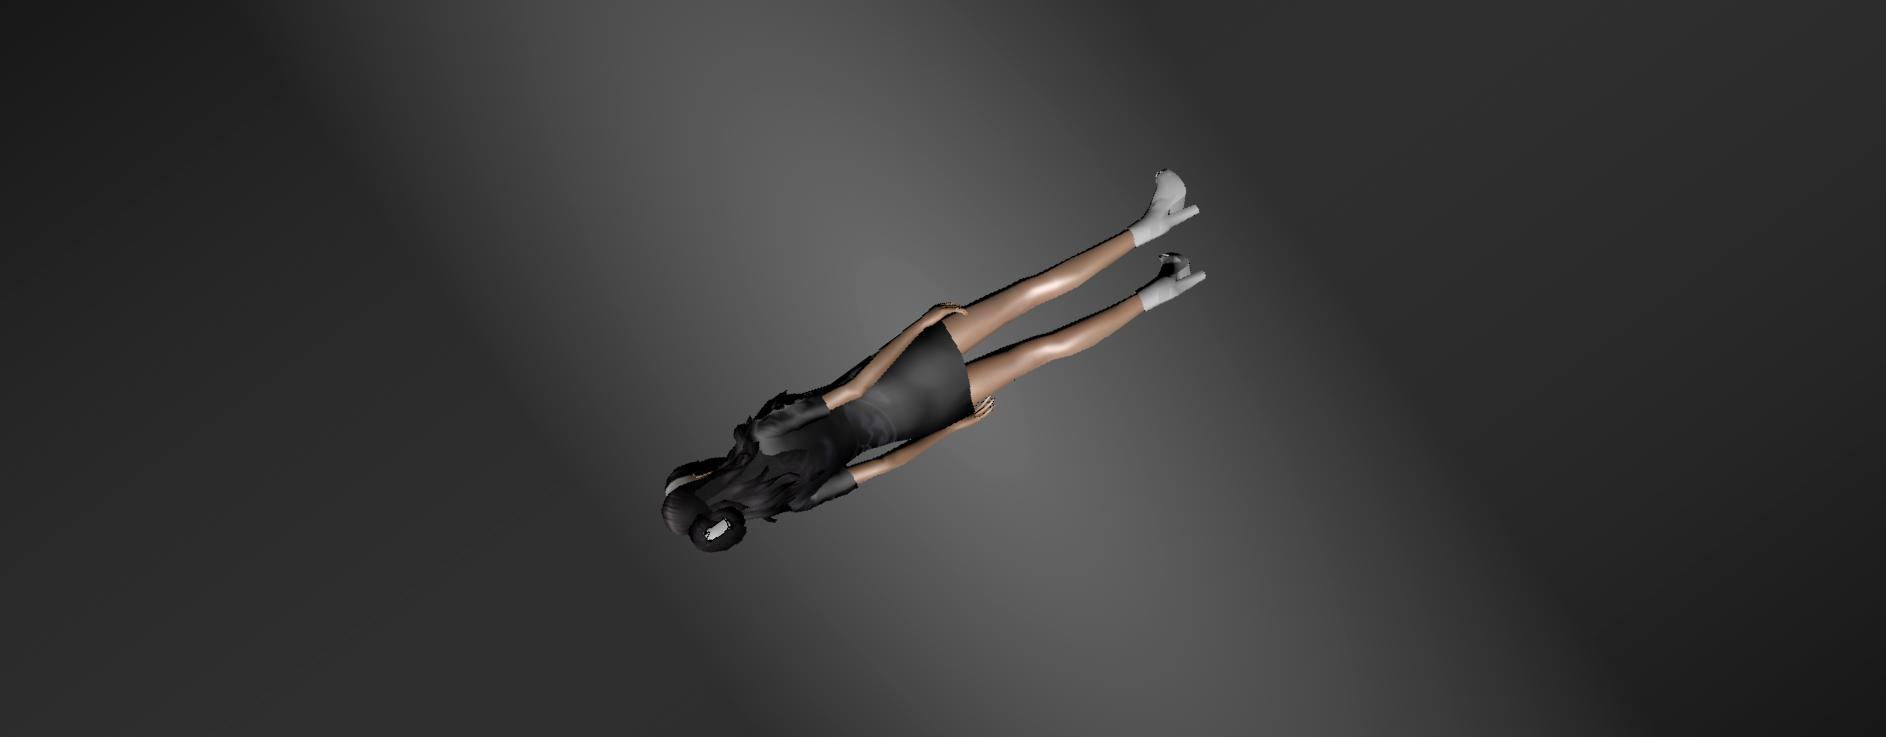clip: (699, 521, 740, 547)
